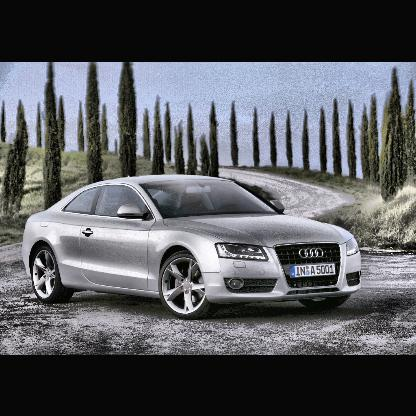Audi A5 Coupe 2012: (23, 173, 364, 322)
